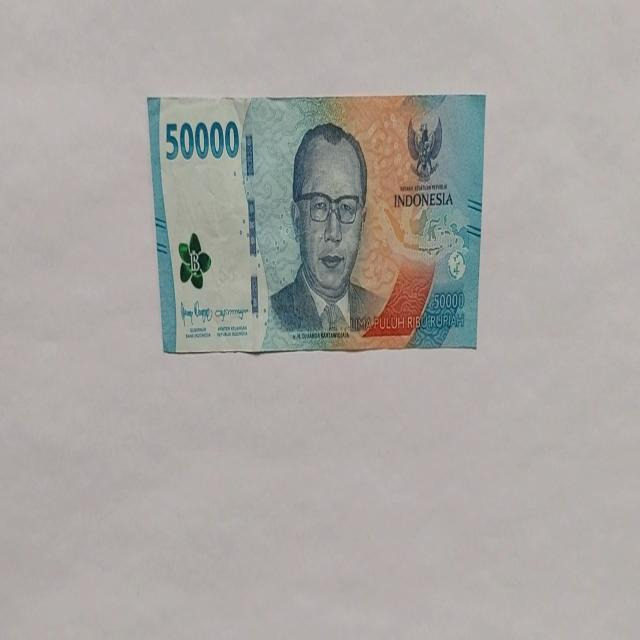lima puluh ribu rupiah: (147, 92, 486, 354), (266, 121, 386, 338)
